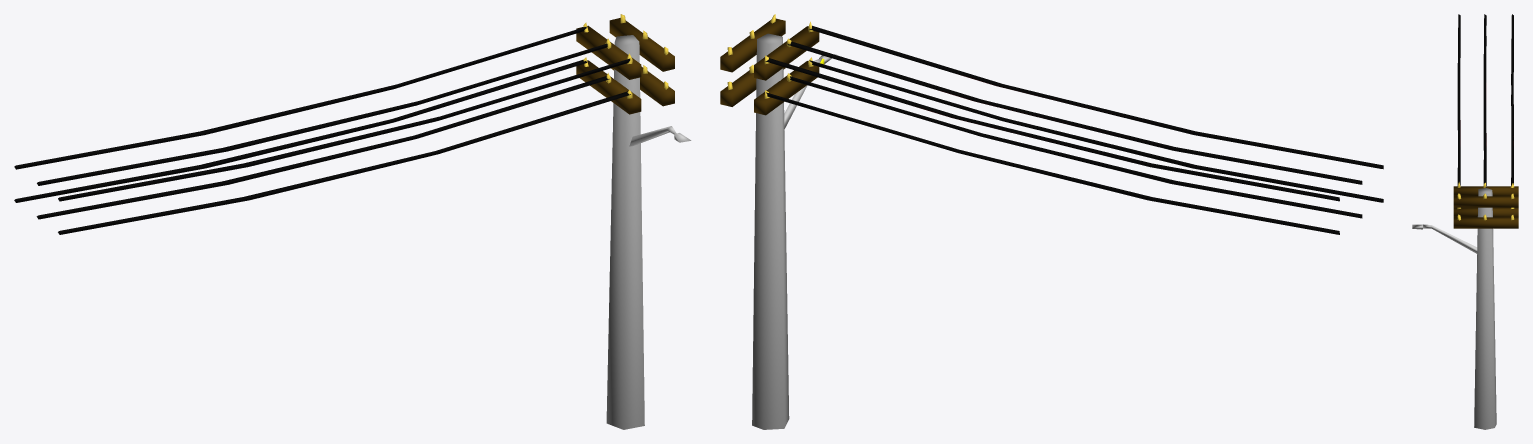
Rendered from PosteDeLuzFiosLadoEsquerdoLOD1.fbx.
3 renders of one model, left to right at view 1: azimuth 30°, elevation 25°; view 2: azimuth 150°, elevation 25°; view 3: azimuth 270°, elevation 25°, orthographic. The views are drawn at different scales.
Visible parts, largest first — view 1: PosteDeLuzFiosLadoEsquerdoLOD1; view 2: PosteDeLuzFiosLadoEsquerdoLOD1; view 3: PosteDeLuzFiosLadoEsquerdoLOD1.
Boxes of the visible parts, box(x1,y1,x2,y2) form: PosteDeLuzFiosLadoEsquerdoLOD1: box(14, 14, 691, 429); PosteDeLuzFiosLadoEsquerdoLOD1: box(720, 14, 1383, 429); PosteDeLuzFiosLadoEsquerdoLOD1: box(1412, 14, 1518, 429).
Bounding box in the file's own units: 1215 × 738 × 299.
